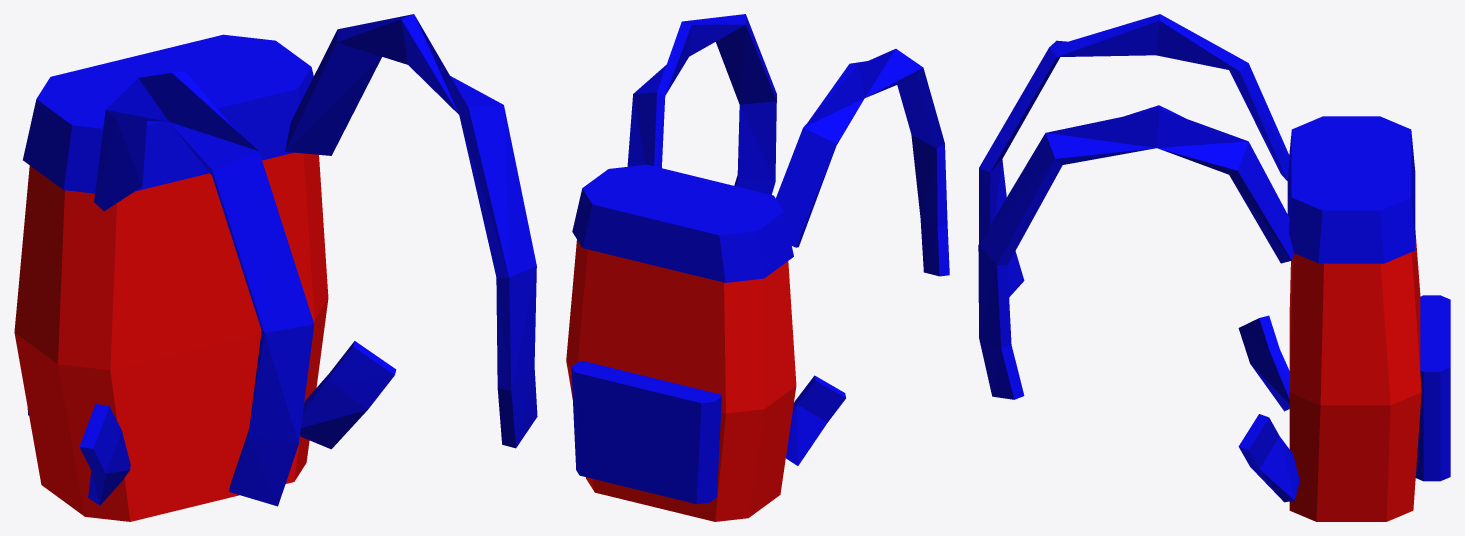
The model's file is bag_backpack_01.glb.
The picture shows the model from 3 angles, left to right: view 1: azimuth 30°, elevation 25°; view 2: azimuth 150°, elevation 25°; view 3: azimuth 270°, elevation 25°; orthographic projection. The views are drawn at different scales.
Visible parts, largest first — view 1: bag_backpack_01; view 2: bag_backpack_01; view 3: bag_backpack_01.
Boxes of the visible parts, x1,y1,x2,y2 form: bag_backpack_01: [14, 14, 537, 521]; bag_backpack_01: [566, 14, 949, 521]; bag_backpack_01: [978, 14, 1450, 521].
Size of the model in its own units: 0.2859 by 0.4462 by 0.4579.
1 material, 1 textured.
